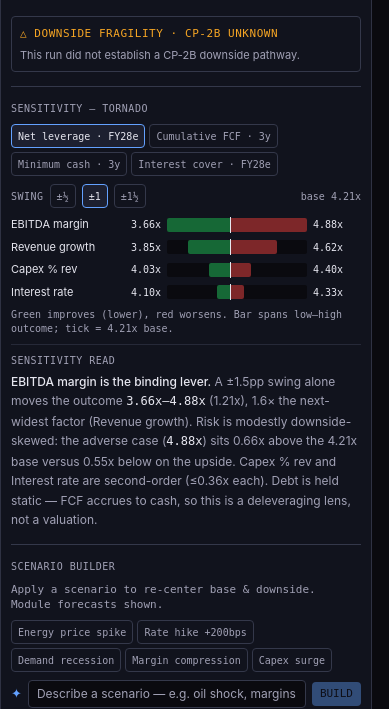
it: ScenarioPanel › applying a preset re-centers the lens: shows the active card + delta summary, and RESET reverts
The image size is (389, 709).
(page scrolled)
# Click the "Rate hike +200bps" preset → onApply fires, scenario becomes active.
Step 1. Click the button "Rate hike +200bps" → (196, 632), box [137,620,254,644]
(page scrolled)
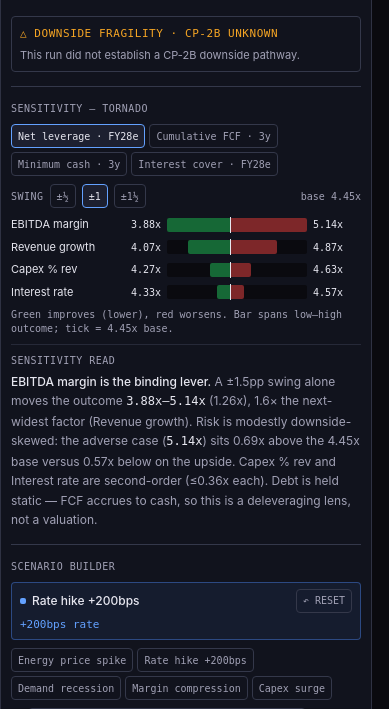
Expected: the text "+200bps rate" is shown, [20,618,100,631]
# RESET reverts to module forecasts (active cleared, idle hint back).
Step 2. Click the button "↶ RESET" → (324, 601), box [296,589,352,613]
(page scrolled)
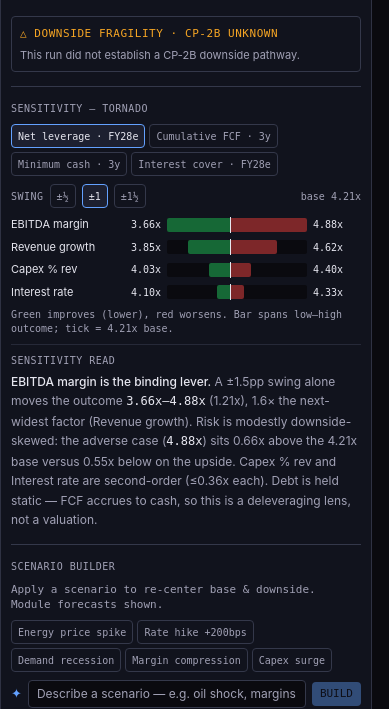
Expected: the text "+200bps rate" is gone
Expected: the text "Apply a scenario to re-center base" is shown, [11,583,316,611]
